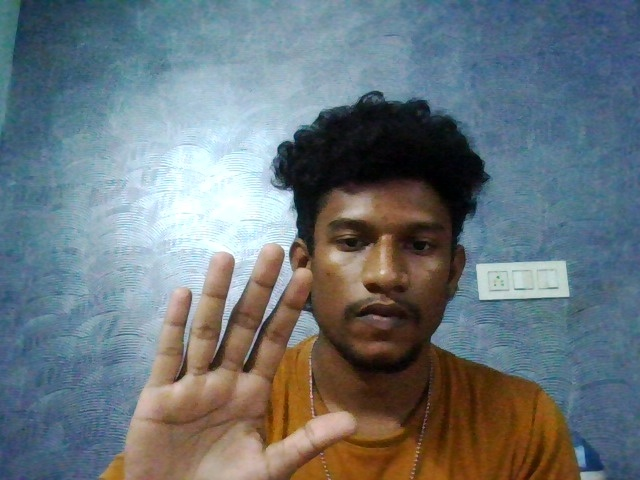hello: (124, 239, 360, 480)
